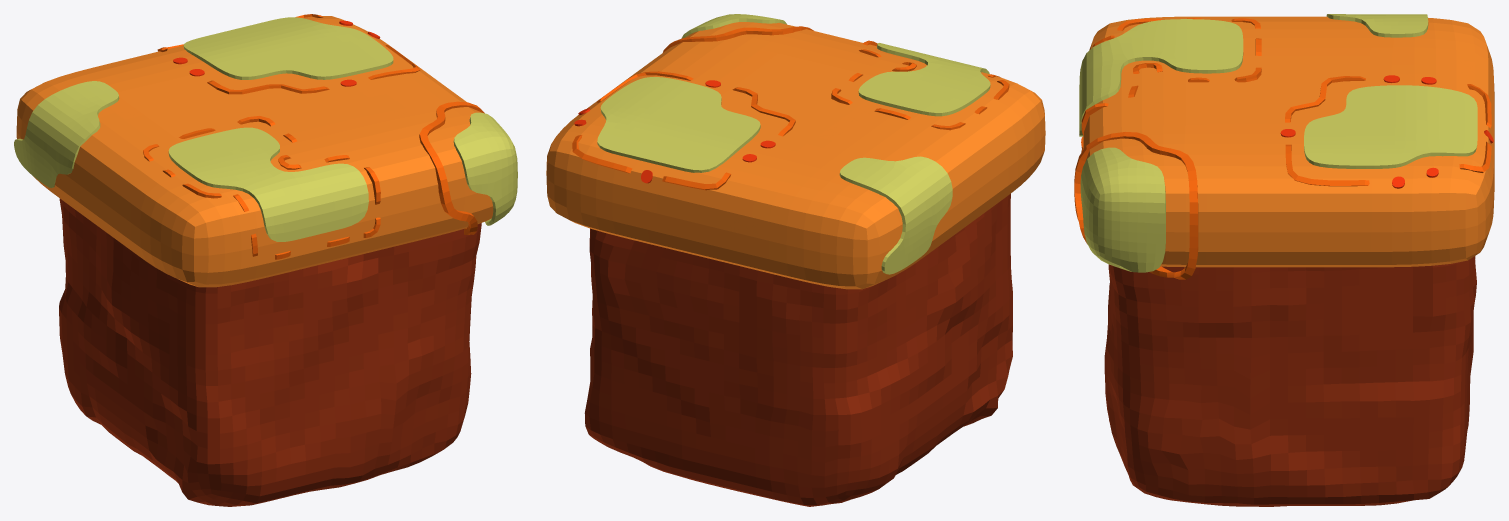
File: BasicBlock1_baked.fbx
The picture shows the model from 3 angles, left to right: view 1: azimuth 30°, elevation 25°; view 2: azimuth 150°, elevation 25°; view 3: azimuth 270°, elevation 25°; orthographic projection. The views are drawn at different scales.
Parts seen in each view (by area): view 1: block1_soil, block1_grass, block1_grass_art1, block1_grass_art2, block1_grass_art3, block1_grass_art11, block1_grass_art4; view 2: block1_soil, block1_grass, block1_grass_art1, block1_grass_art4, block1_grass_art3, block1_grass_art11, block1_grass_art2; view 3: block1_soil, block1_grass, block1_grass_art1, block1_grass_art2, block1_grass_art11, block1_grass_art4, block1_grass_art3.
Part boxes in pixels (left/top/right/bottom): block1_soil: left=59, top=198, right=481, bottom=506; block1_grass: left=16, top=16, right=493, bottom=287; block1_grass_art1: left=14, top=17, right=393, bottom=241; block1_grass_art2: left=453, top=112, right=517, bottom=225; block1_grass_art3: left=143, top=116, right=380, bottom=259; block1_grass_art11: left=419, top=101, right=484, bottom=234; block1_grass_art4: left=157, top=14, right=420, bottom=94; block1_soil: left=584, top=193, right=1012, bottom=506; block1_grass: left=546, top=22, right=1045, bottom=289; block1_grass_art1: left=597, top=43, right=990, bottom=274; block1_grass_art4: left=572, top=71, right=795, bottom=190; block1_grass_art3: left=831, top=40, right=1009, bottom=130; block1_grass_art11: left=663, top=26, right=813, bottom=52; block1_grass_art2: left=681, top=14, right=786, bottom=38; block1_soil: left=1104, top=256, right=1476, bottom=506; block1_grass: left=1083, top=16, right=1494, bottom=267; block1_grass_art1: left=1079, top=14, right=1477, bottom=168; block1_grass_art2: left=1080, top=147, right=1165, bottom=272; block1_grass_art11: left=1074, top=132, right=1198, bottom=279; block1_grass_art4: left=1285, top=76, right=1491, bottom=186; block1_grass_art3: left=1081, top=18, right=1261, bottom=152.
Bounding box in the file's own units: 241 × 225 × 232.
